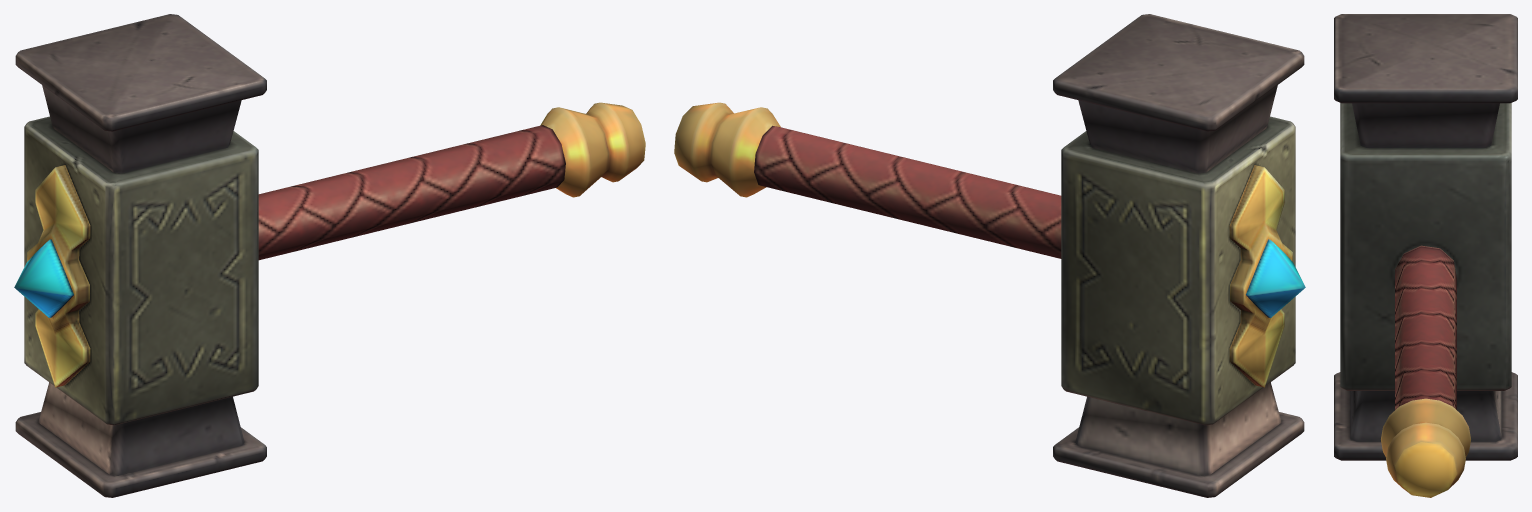
The model's file is WEA_Mjolnir.fbx.
The picture shows the model from 3 angles, left to right: view 1: azimuth 30°, elevation 25°; view 2: azimuth 150°, elevation 25°; view 3: azimuth 270°, elevation 25°; orthographic projection. The views are drawn at different scales.
Visible parts, largest first — view 1: WEA_Mjolnir_0_mesh; view 2: WEA_Mjolnir_0_mesh; view 3: WEA_Mjolnir_0_mesh.
Boxes of the visible parts, x1,y1,x2,y2 form: WEA_Mjolnir_0_mesh: (14, 14, 645, 497); WEA_Mjolnir_0_mesh: (674, 14, 1305, 497); WEA_Mjolnir_0_mesh: (1334, 14, 1517, 497).
Size of the model in its own units: 29.05 by 16.82 by 7.56.
1 material, 1 textured.
